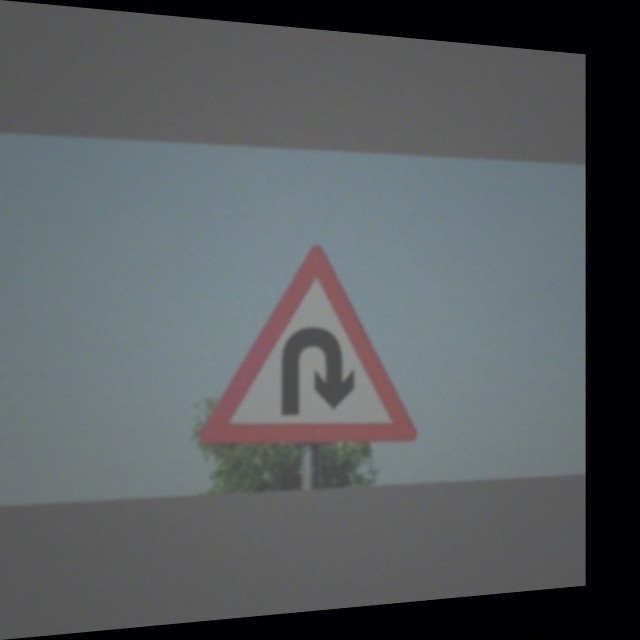Right_Hair_Pin_Bend: (207, 241, 421, 447)
